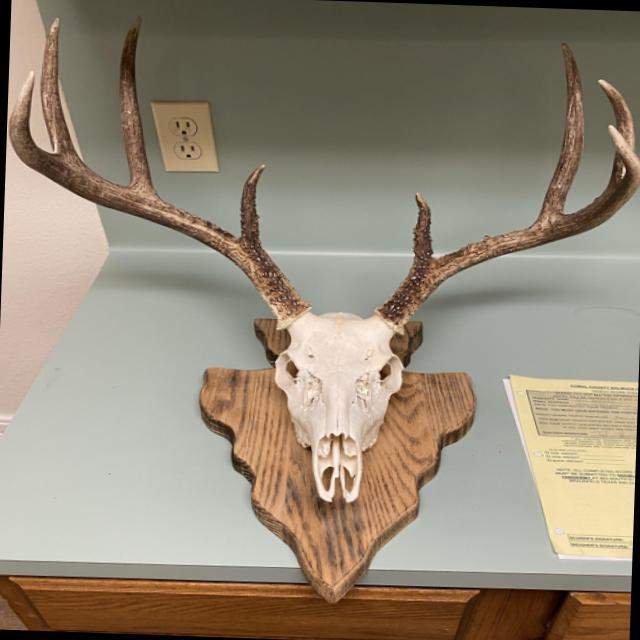L-F: (374, 123, 640, 334)
L-G1: (411, 192, 436, 266)
L-G2: (536, 41, 584, 221)
R-F: (9, 70, 313, 329)
R-G1: (238, 164, 266, 245)
R-G2: (119, 14, 155, 192)
R-G3: (39, 18, 80, 160)
